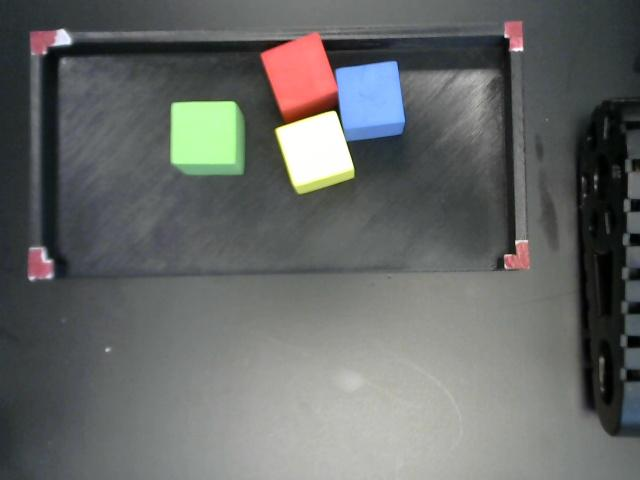cube: (259, 32, 339, 121), (276, 112, 353, 194), (336, 61, 405, 144), (171, 101, 245, 178)
